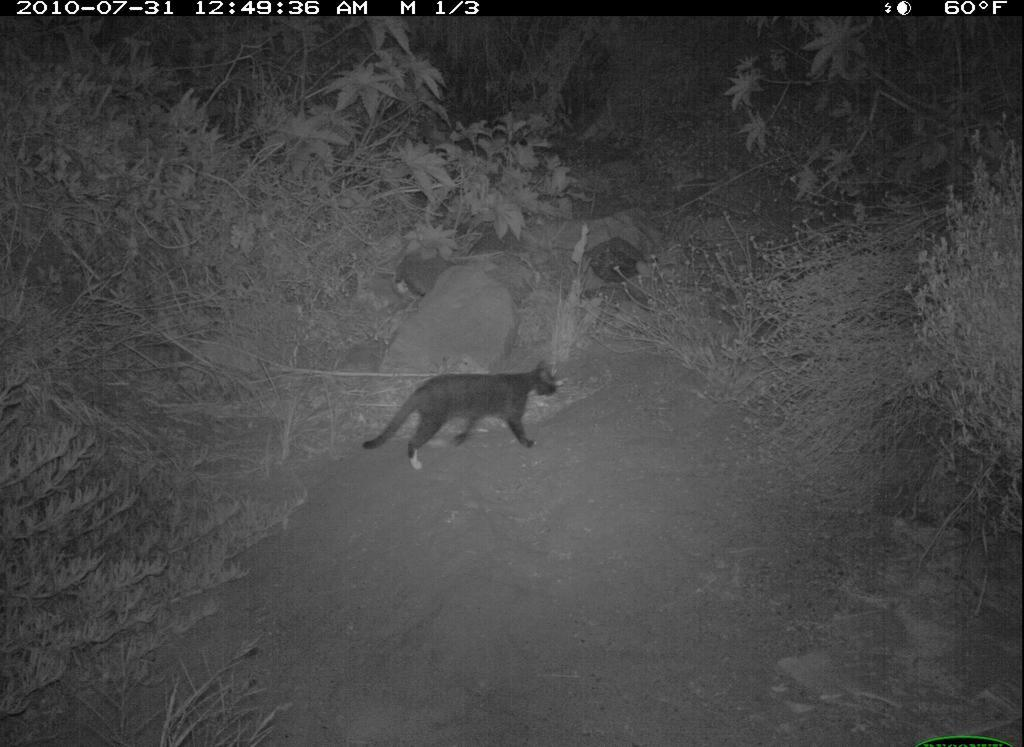cat: (344, 359, 578, 475)
